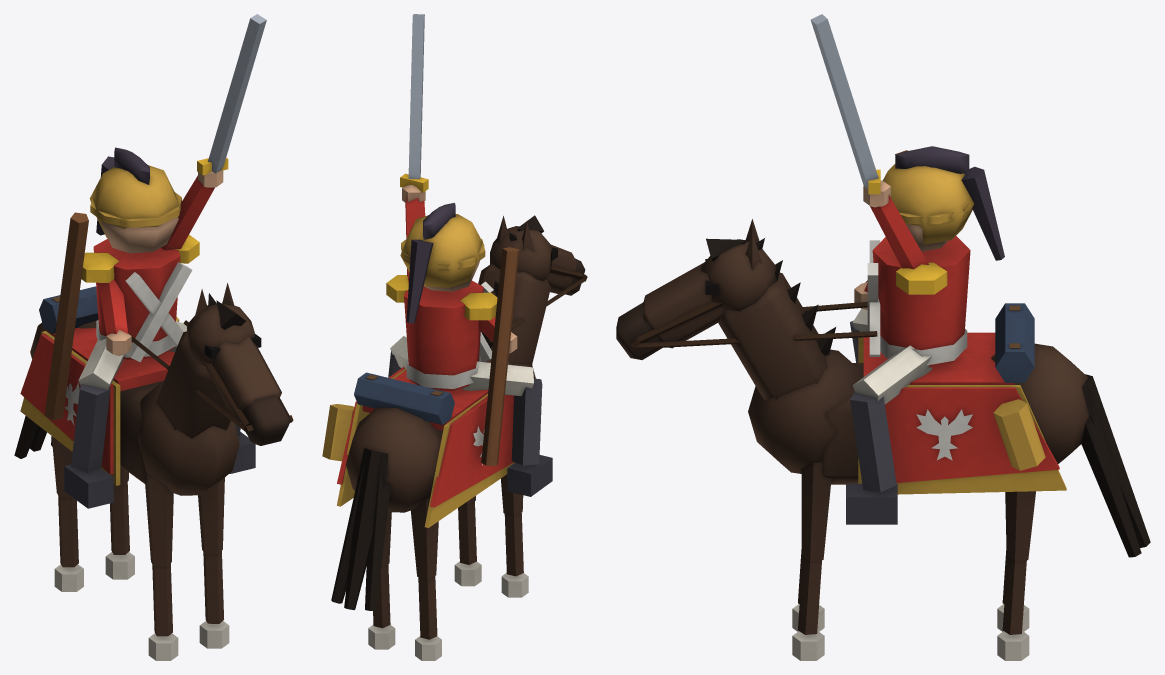
The model's file is assault_dl4_red.glb.
The picture shows the model from 3 angles, left to right: view 1: azimuth 30°, elevation 25°; view 2: azimuth 150°, elevation 25°; view 3: azimuth 270°, elevation 25°; orthographic projection. The views are drawn at different scales.
Visible parts, largest first — view 1: assault_dl4_red; view 2: assault_dl4_red; view 3: assault_dl4_red.
Boxes of the visible parts, x1=… form: assault_dl4_red: x1=14, y1=14, x2=293, y2=660; assault_dl4_red: x1=322, y1=14, x2=587, y2=660; assault_dl4_red: x1=616, y1=14, x2=1150, y2=660.
Size of the model in its own units: 0.2399 by 0.8222 by 0.6004.
1 material, 1 textured.
